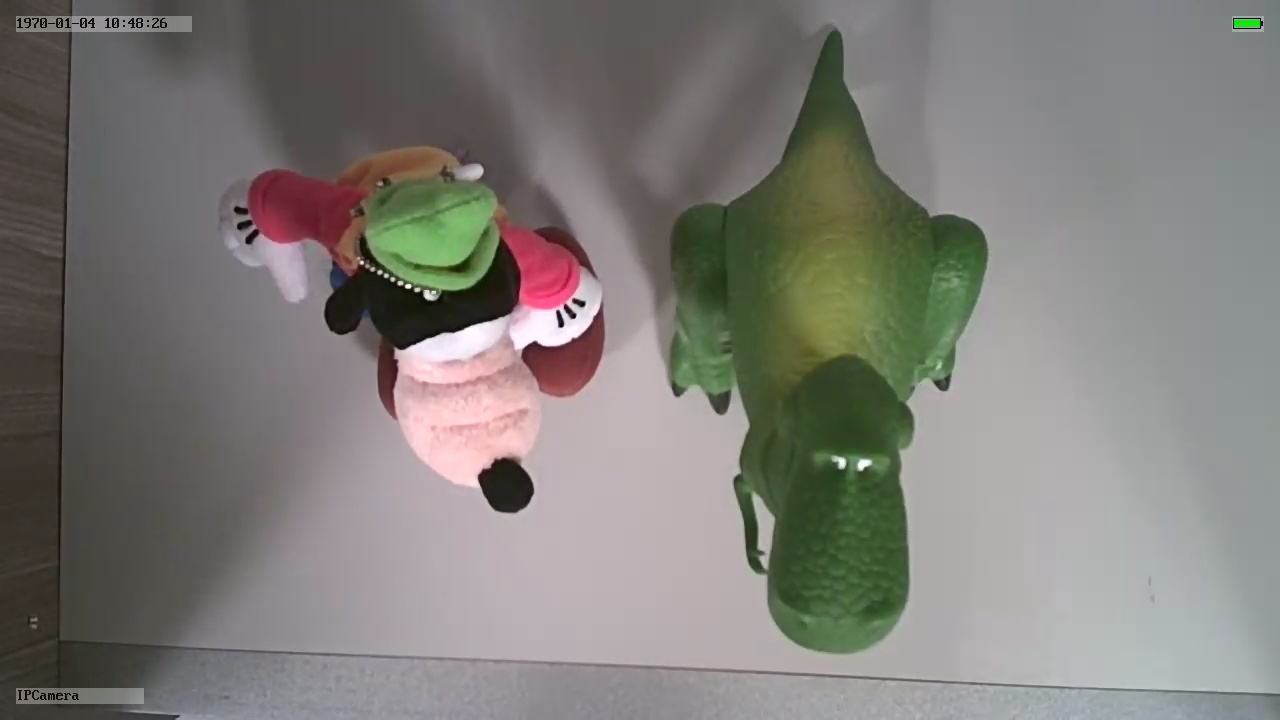goofy: (212, 141, 607, 518)
rex: (667, 133, 991, 656)
